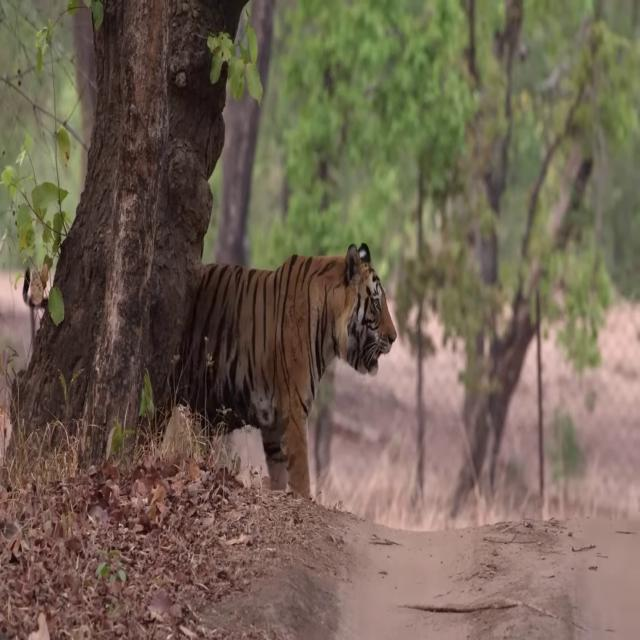tiger: (172, 239, 398, 500)
